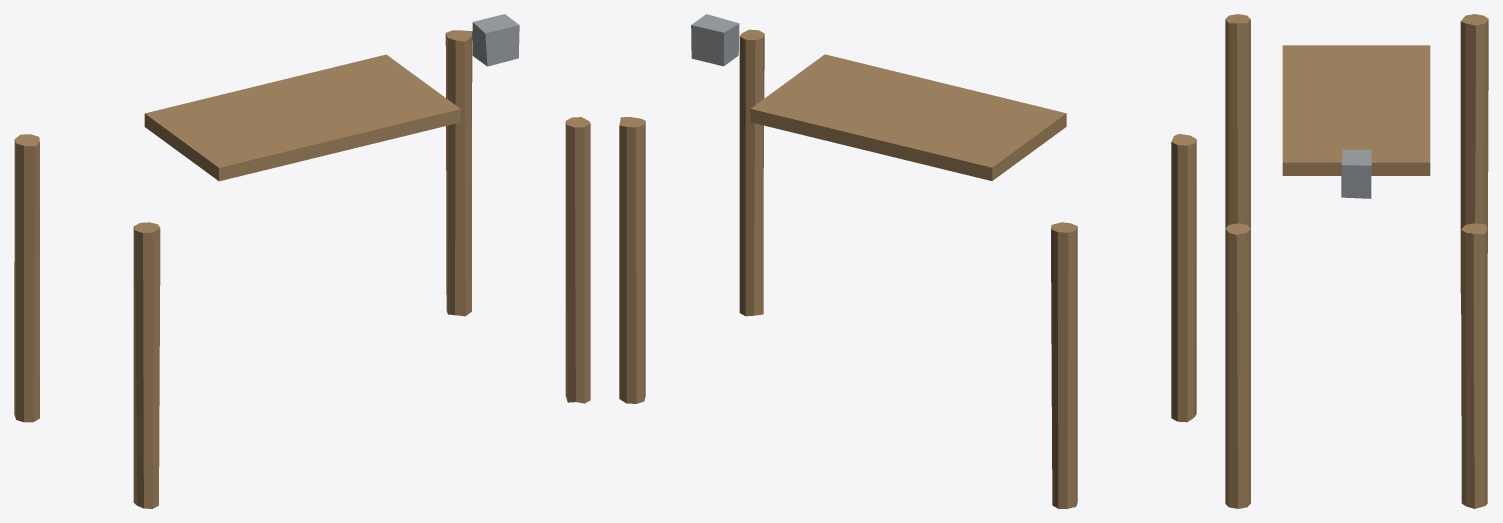
The model's file is workbench.glb.
3 renders of one model, left to right at view 1: azimuth 30°, elevation 25°; view 2: azimuth 150°, elevation 25°; view 3: azimuth 270°, elevation 25°, orthographic.
Parts seen in each view (by area): view 1: workbench; view 2: workbench; view 3: workbench.
Part boxes in pixels (x1,y1,x2,y2): workbench: [14, 14, 590, 508]; workbench: [619, 14, 1196, 508]; workbench: [1225, 14, 1488, 508].
Bounding box in the file's own units: 1.41 × 1 × 0.7131.
